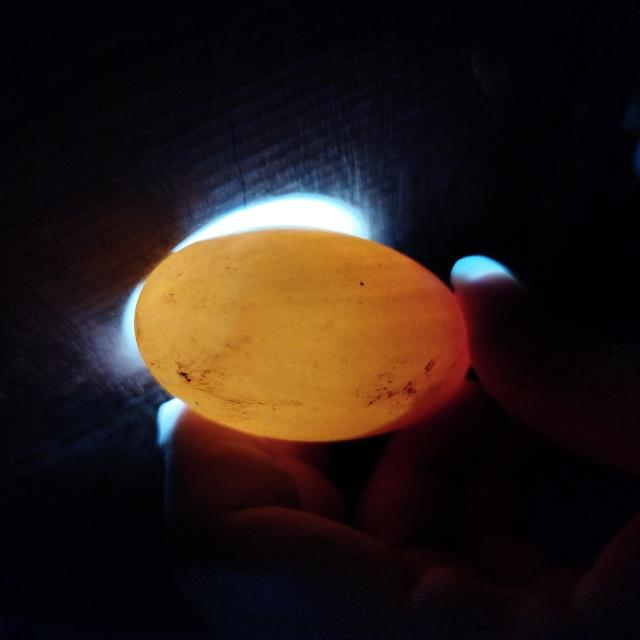Camara de Ar: (134, 237, 244, 382)
Gema Quebrada: (344, 326, 470, 440)
